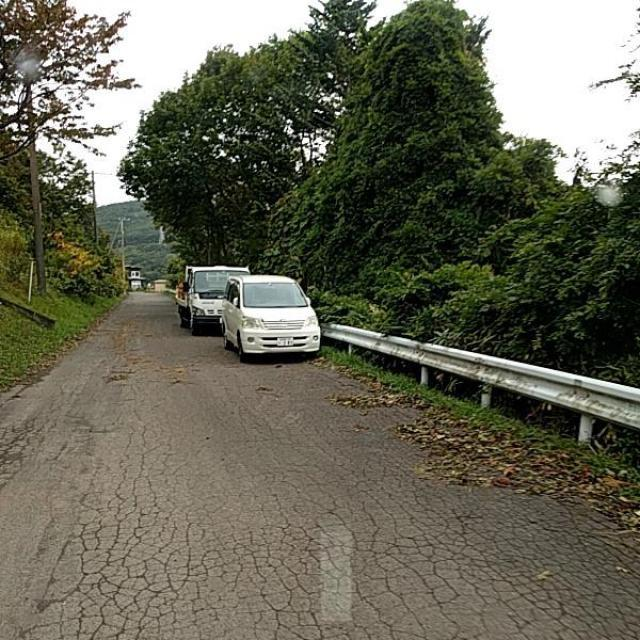Retak Buaya: (3, 457, 640, 640)
